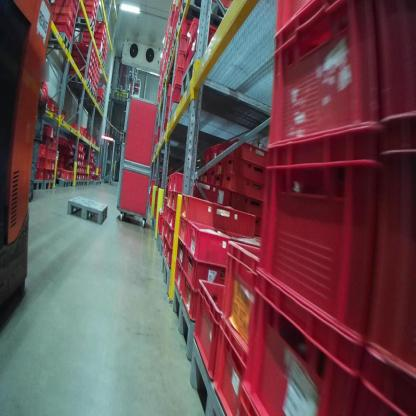pallet: (186, 333, 233, 412), (182, 47, 239, 98), (172, 280, 198, 366), (180, 3, 229, 33), (66, 194, 111, 225), (47, 32, 72, 54), (160, 250, 173, 291), (66, 74, 91, 90), (76, 18, 94, 34), (72, 87, 94, 98), (75, 91, 97, 102), (172, 23, 182, 46), (84, 100, 102, 111), (30, 179, 43, 193), (159, 235, 165, 264), (45, 180, 58, 193), (56, 178, 69, 190), (154, 230, 160, 251), (99, 83, 107, 93), (73, 177, 80, 188), (97, 48, 102, 61), (67, 180, 74, 188), (93, 180, 99, 187), (79, 180, 84, 187), (84, 180, 88, 187), (101, 103, 105, 110), (88, 180, 91, 189), (102, 59, 105, 67), (100, 108, 104, 114), (102, 99, 106, 105), (105, 90, 108, 96), (104, 96, 107, 101), (91, 179, 93, 186)
pallet_truck: (0, 3, 55, 338)
small_load_carrier: (243, 115, 382, 351), (267, 3, 377, 165), (243, 270, 367, 411), (374, 115, 415, 385), (221, 242, 266, 363), (190, 274, 228, 388), (377, 2, 411, 127), (180, 193, 259, 246), (360, 343, 415, 411), (209, 315, 250, 405), (268, 2, 322, 44), (185, 220, 229, 271), (185, 250, 232, 297), (172, 172, 225, 205), (222, 135, 268, 166), (224, 159, 266, 183), (179, 275, 198, 327), (221, 171, 254, 198), (231, 380, 257, 414), (173, 258, 186, 297), (177, 212, 188, 251), (176, 239, 187, 273), (53, 13, 73, 29), (53, 4, 73, 19), (51, 22, 69, 38), (82, 37, 103, 50), (56, 167, 72, 183), (164, 244, 175, 266), (54, 1, 77, 11), (47, 97, 61, 113), (168, 209, 177, 231), (42, 122, 56, 136), (53, 107, 67, 121), (68, 139, 82, 153), (79, 41, 95, 53), (71, 121, 83, 136), (78, 9, 96, 19), (36, 155, 48, 169), (46, 136, 58, 150), (167, 224, 174, 248), (167, 169, 174, 193), (83, 33, 104, 41), (65, 155, 80, 166), (80, 5, 96, 15), (65, 148, 81, 158), (80, 50, 93, 62), (78, 63, 92, 74), (162, 222, 170, 241), (96, 17, 108, 29), (48, 146, 57, 160), (62, 164, 80, 171), (45, 169, 56, 180), (94, 27, 105, 38), (36, 164, 44, 179), (170, 192, 177, 209), (165, 193, 174, 206), (72, 42, 81, 55), (68, 22, 74, 39), (48, 157, 56, 169), (79, 57, 92, 64), (70, 12, 76, 27), (81, 1, 96, 7), (41, 143, 48, 155), (165, 206, 170, 222), (71, 56, 80, 63), (70, 64, 79, 70), (70, 70, 78, 76), (79, 74, 92, 77), (70, 170, 74, 179), (83, 128, 87, 137), (76, 171, 80, 180), (74, 8, 77, 16)
